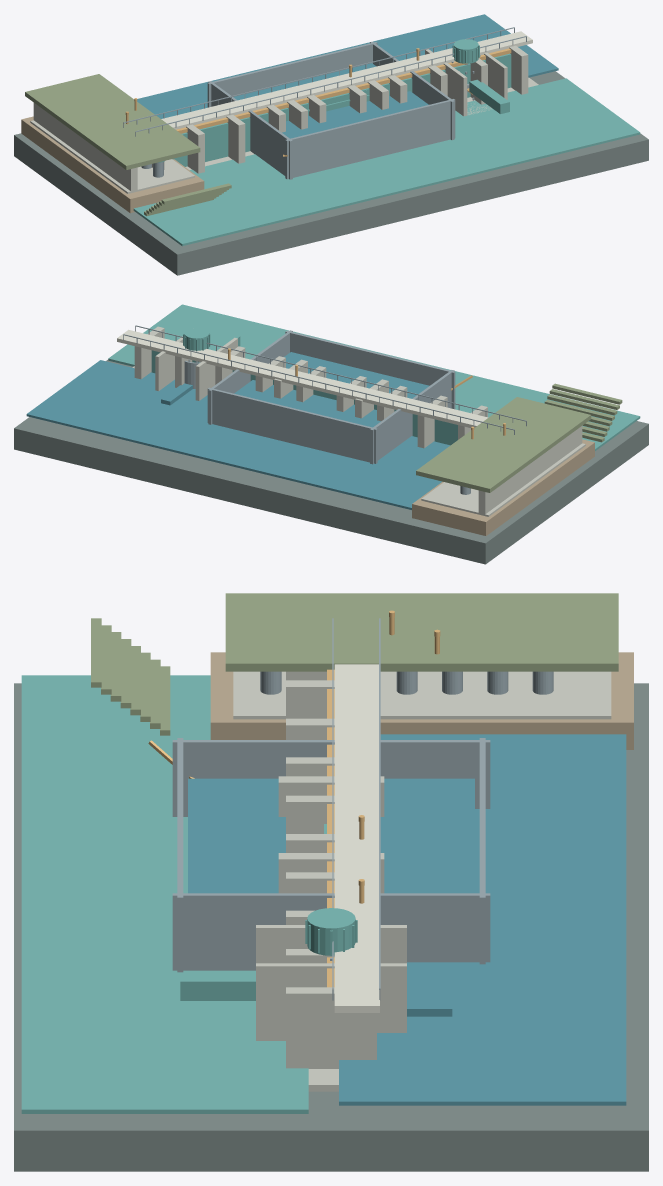
Rendered from world-barrage.glb.
3 views of the same model, one above another, from view 1: azimuth 30°, elevation 25°; view 2: azimuth 150°, elevation 25°; view 3: azimuth 270°, elevation 25° (orthographic). The views are drawn at different scales.
Parts seen in each view (by area): view 1: stage-0-infrastructure-teal-sea, stage-0-excavated-strata-, stage-1-structural-steel-enclosure, stage-6-landscape-roof, stage-0-water-section-reservoir, stage-3-warm-concrete-piers, stage-6-porcelain-bridge, stage-5-warm-concrete-hall, stage-0-compacted-fill-land, stage-2-water-section-work-water, stage-4-infrastructure-teal-gates, stage-5-warm-concrete-pump-housing (+5 smaller); view 2: stage-0-excavated-strata-, stage-0-water-section-reservoir, stage-1-structural-steel-enclosure, stage-6-landscape-roof, stage-0-infrastructure-teal-sea, stage-6-porcelain-bridge, stage-2-water-section-work-water, stage-3-warm-concrete-piers, stage-5-warm-concrete-hall, stage-0-compacted-fill-land, stage-6-structural-steel-bridge-rail, stage-5-warm-concrete-pump-housing (+3 smaller); view 3: stage-0-infrastructure-teal-sea, stage-0-water-section-reservoir, stage-0-excavated-strata-, stage-6-landscape-roof, stage-1-structural-steel-enclosure, stage-2-water-section-work-water, stage-6-porcelain-bridge, stage-3-warm-concrete-piers, stage-5-warm-concrete-hall, stage-0-compacted-fill-land, stage-5-warm-concrete-pump-housing, stage-3-warm-concrete-section-base (+5 smaller).
Boxes of the visible parts, <box> form: stage-0-infrastructure-teal-sea: <box>133,78,640,246</box>; stage-0-excavated-strata-: <box>14,71,648,275</box>; stage-1-structural-steel-enclosure: <box>207,41,455,179</box>; stage-6-landscape-roof: <box>25,74,231,216</box>; stage-0-water-section-reservoir: <box>137,14,558,118</box>; stage-3-warm-concrete-piers: <box>152,45,528,173</box>; stage-6-porcelain-bridge: <box>161,31,532,129</box>; stage-5-warm-concrete-hall: <box>30,103,194,193</box>; stage-0-compacted-fill-land: <box>21,116,204,213</box>; stage-2-water-section-work-water: <box>233,63,428,138</box>; stage-4-infrastructure-teal-gates: <box>172,53,511,166</box>; stage-5-warm-concrete-pump-housing: <box>425,49,507,116</box>; stage-0-excavated-strata-: <box>14,359,648,564</box>; stage-0-water-section-reservoir: <box>26,360,450,509</box>; stage-1-structural-steel-enclosure: <box>207,330,455,464</box>; stage-6-landscape-roof: <box>416,383,622,492</box>; stage-0-infrastructure-teal-sea: <box>108,304,640,450</box>; stage-6-porcelain-bridge: <box>117,329,488,427</box>; stage-2-water-section-work-water: <box>234,352,429,427</box>; stage-3-warm-concrete-piers: <box>134,326,487,448</box>; stage-5-warm-concrete-hall: <box>421,426,585,516</box>; stage-0-compacted-fill-land: <box>412,439,594,535</box>; stage-6-structural-steel-bridge-rail: <box>123,325,526,434</box>; stage-5-warm-concrete-pump-housing: <box>155,336,237,400</box>; stage-0-infrastructure-teal-sea: <box>21,675,308,1113</box>; stage-0-water-section-reservoir: <box>339,734,626,1105</box>; stage-0-excavated-strata-: <box>14,683,648,1171</box>; stage-6-landscape-roof: <box>91,593,618,735</box>; stage-1-structural-steel-enclosure: <box>172,738,490,972</box>; stage-2-water-section-work-water: <box>188,778,474,893</box>; stage-6-porcelain-bridge: <box>334,664,379,1012</box>; stage-3-warm-concrete-piers: <box>286,671,376,1068</box>; stage-5-warm-concrete-hall: <box>233,671,611,719</box>; stage-0-compacted-fill-land: <box>210,652,633,749</box>; stage-5-warm-concrete-pump-housing: <box>256,925,406,1040</box>; stage-3-warm-concrete-section-base: <box>278,776,384,893</box>.
Size of the model in its own units: 70 by 11.5 by 42.
